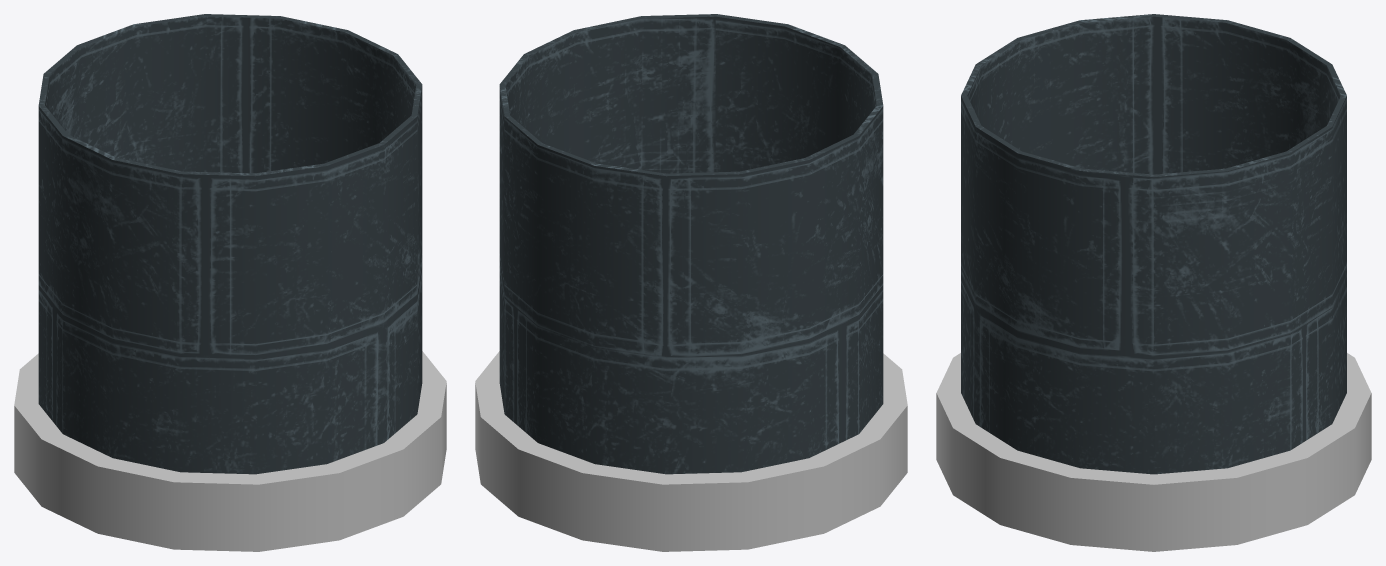
The model's file is tower_pipePeace.fbx.
3 views of the same model, side by side, from view 1: azimuth 30°, elevation 25°; view 2: azimuth 150°, elevation 25°; view 3: azimuth 270°, elevation 25° (orthographic).
Visible parts, largest first — view 1: Cylinder.006; view 2: Cylinder.006; view 3: Cylinder.006.
Part boxes in pixels (x1,y1,x2,y2): Cylinder.006: (14, 14, 446, 551); Cylinder.006: (475, 14, 907, 551); Cylinder.006: (936, 14, 1371, 551).
Size of the model in its own units: 512 by 474 by 512.
